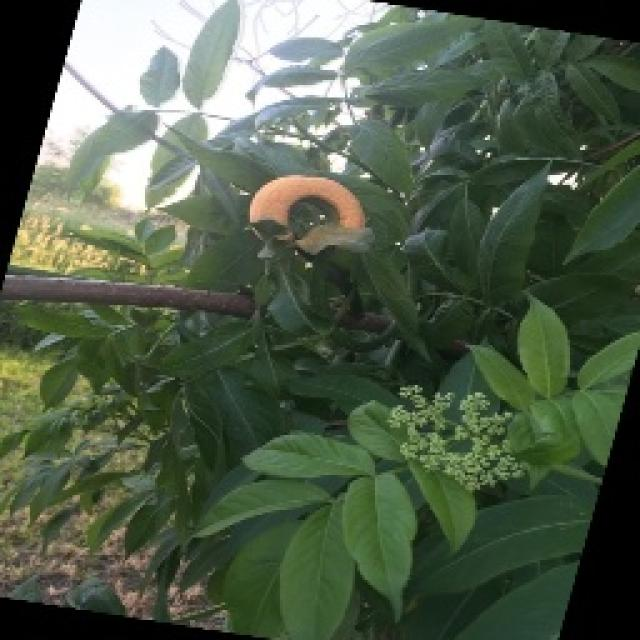Elderberry_rust: (242, 170, 370, 260)
